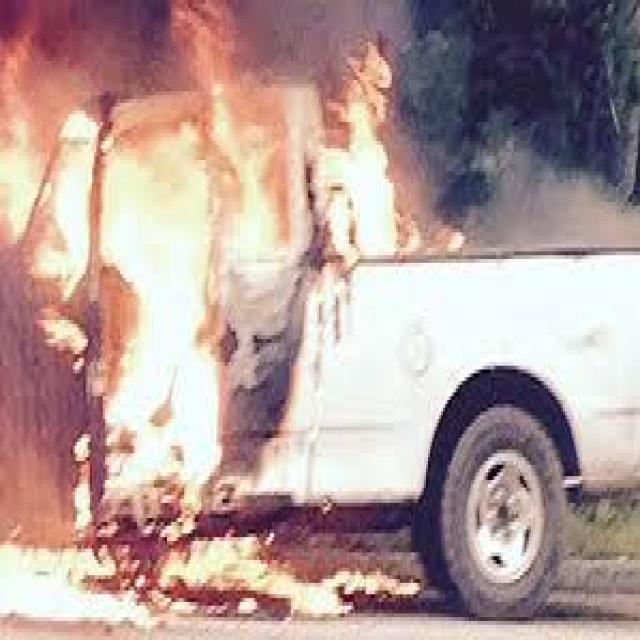Fire: (0, 59, 418, 620)
